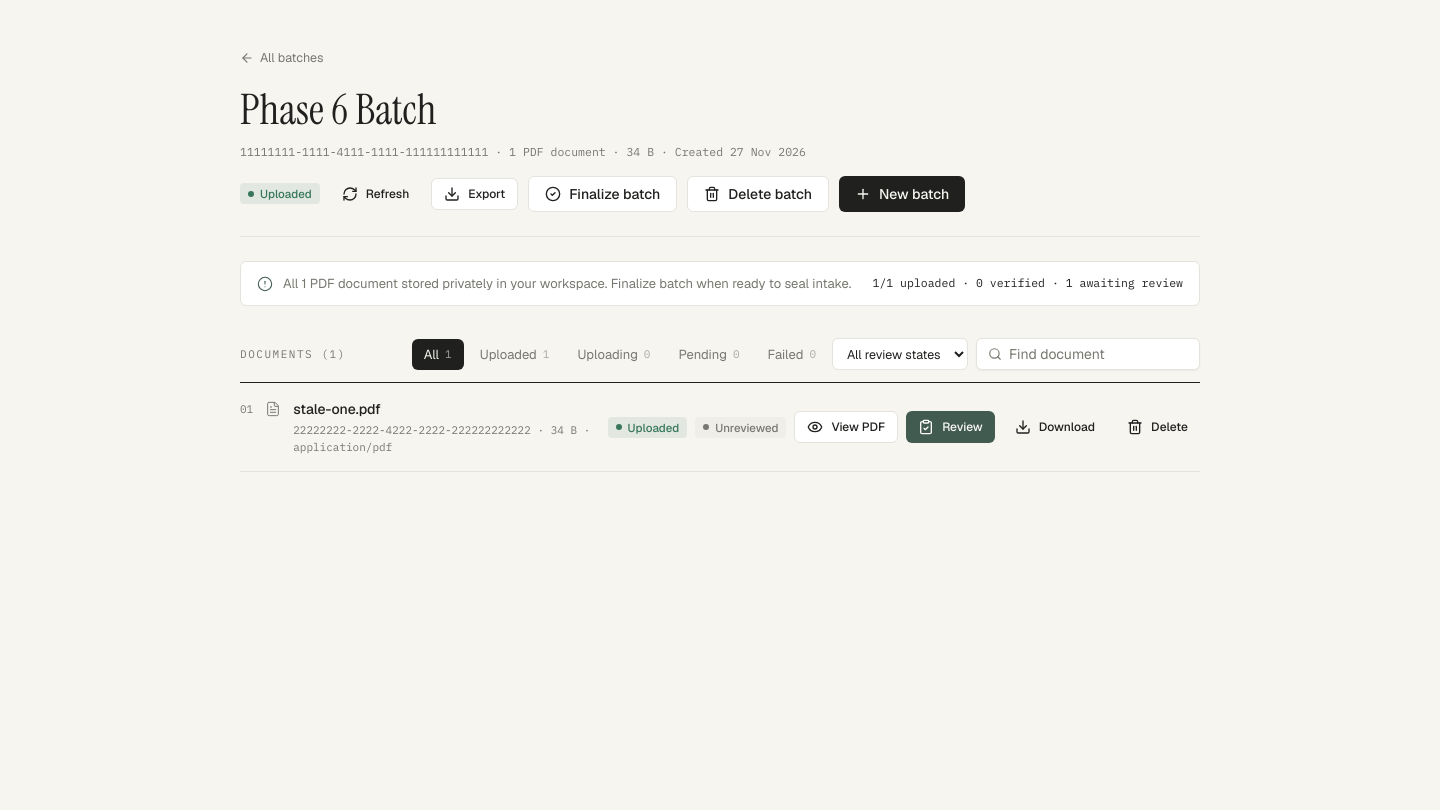
Test: Phase 6 — Document access UI (preview, unavailable recovery, search, single delete, focus) › Edge Cases: blocks non-PDF/empty 200 preview payloads, restores focus on delete cancel, and prevents stale-fetch races
expect the text "stale-one.pdf" is shown: met, box [293,400,381,418]
# Rapid double Refresh: UI stays mounted (non-destructive refresh) and second call supersedes slow first call
Click the button with aria-label "Reload batch from server" at (376, 194), box [330,178,421,210]
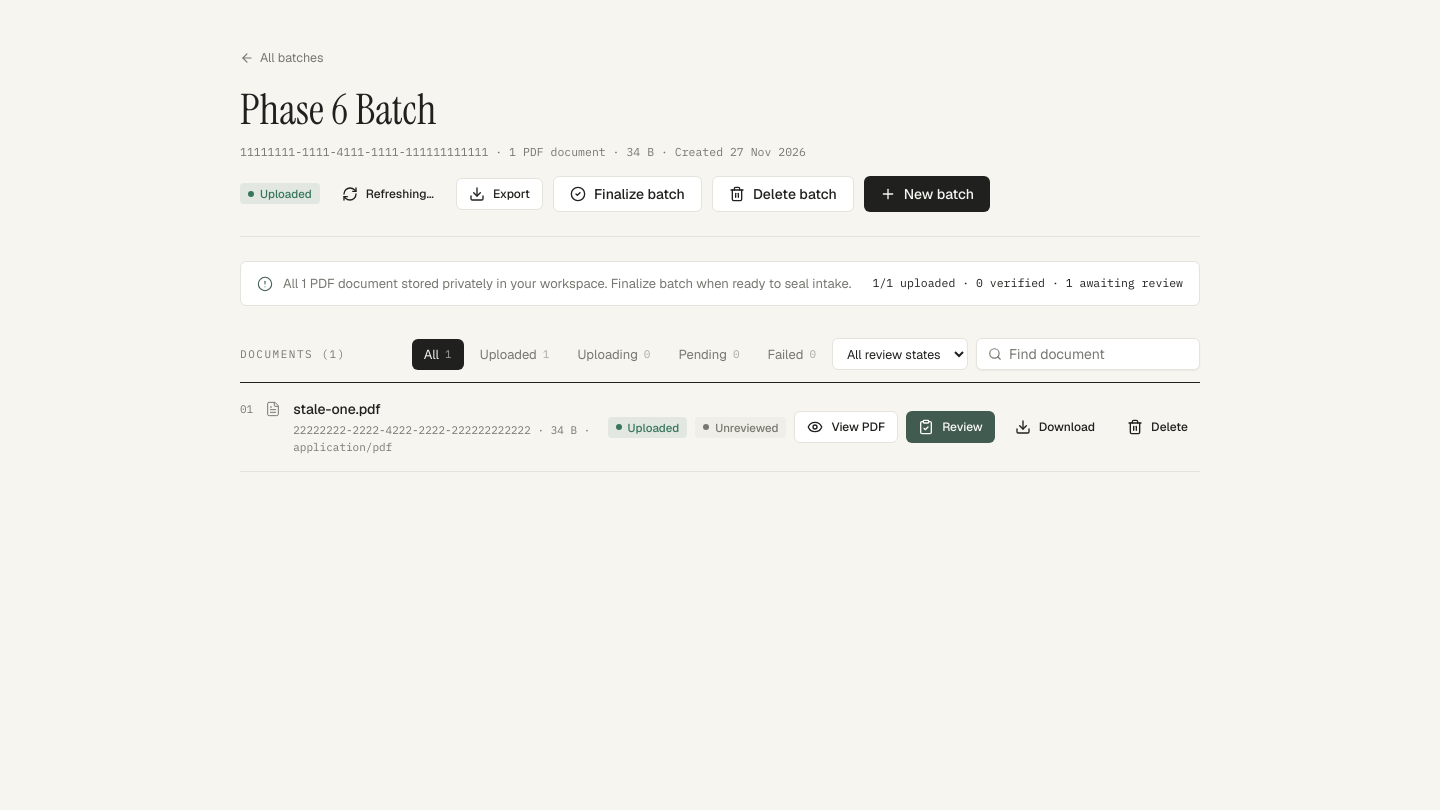
expect the text "stale-one.pdf" is shown: met, box [293,400,381,418]
expect the button with aria-label "Reload batch from server" has attribute aria-busy="true": met
Click the button with aria-label "Reload batch from server" at (388, 194), box [330,178,446,210]
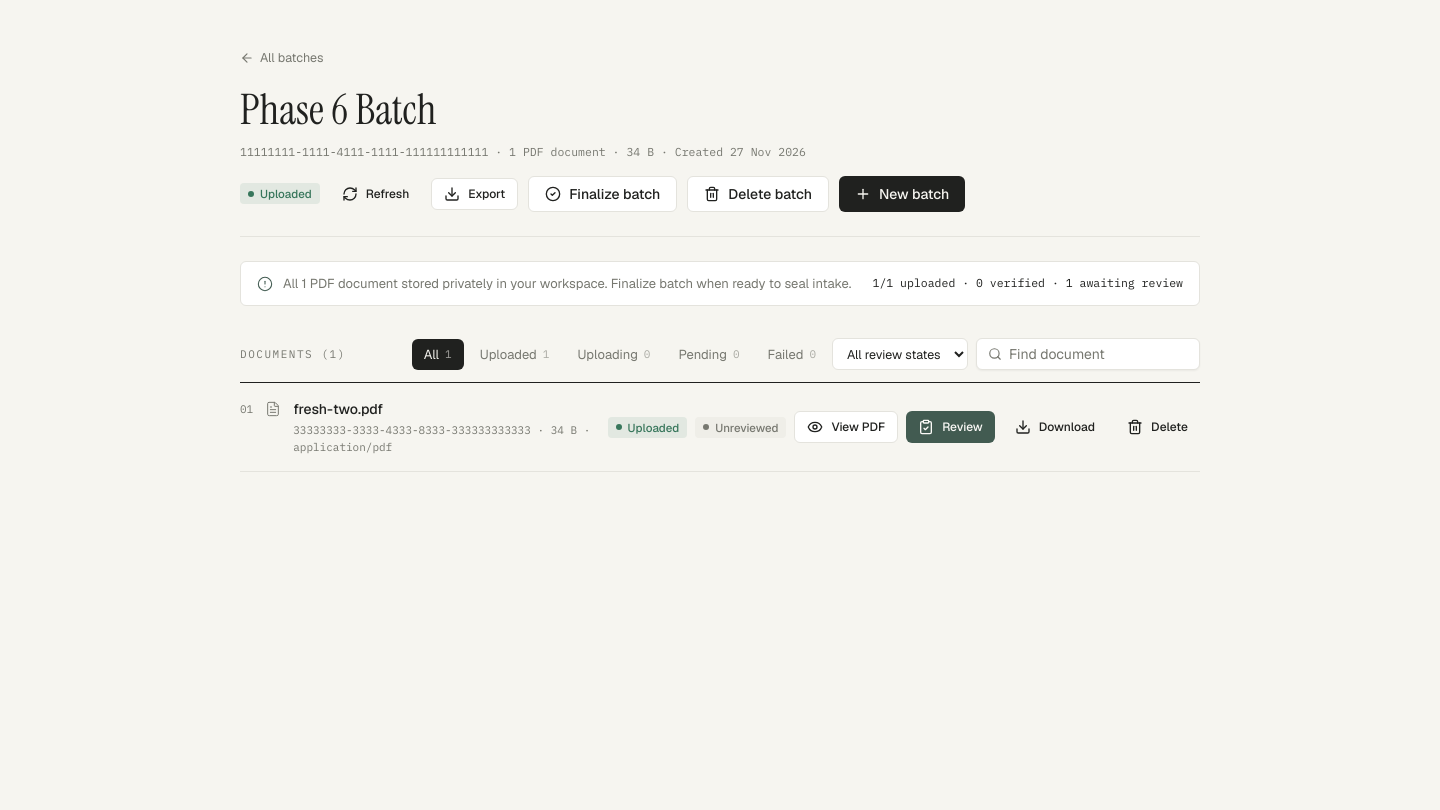
expect the text "fresh-two.pdf" is shown: met, box [293,400,383,418]
expect the text "stale-one.pdf" is gone: met
# Opening preview when server responds 200 text/html shows recoverable error (never iframe)
Click the button with aria-label "View fresh-two.pdf" at (846, 427), box [794,411,898,443]
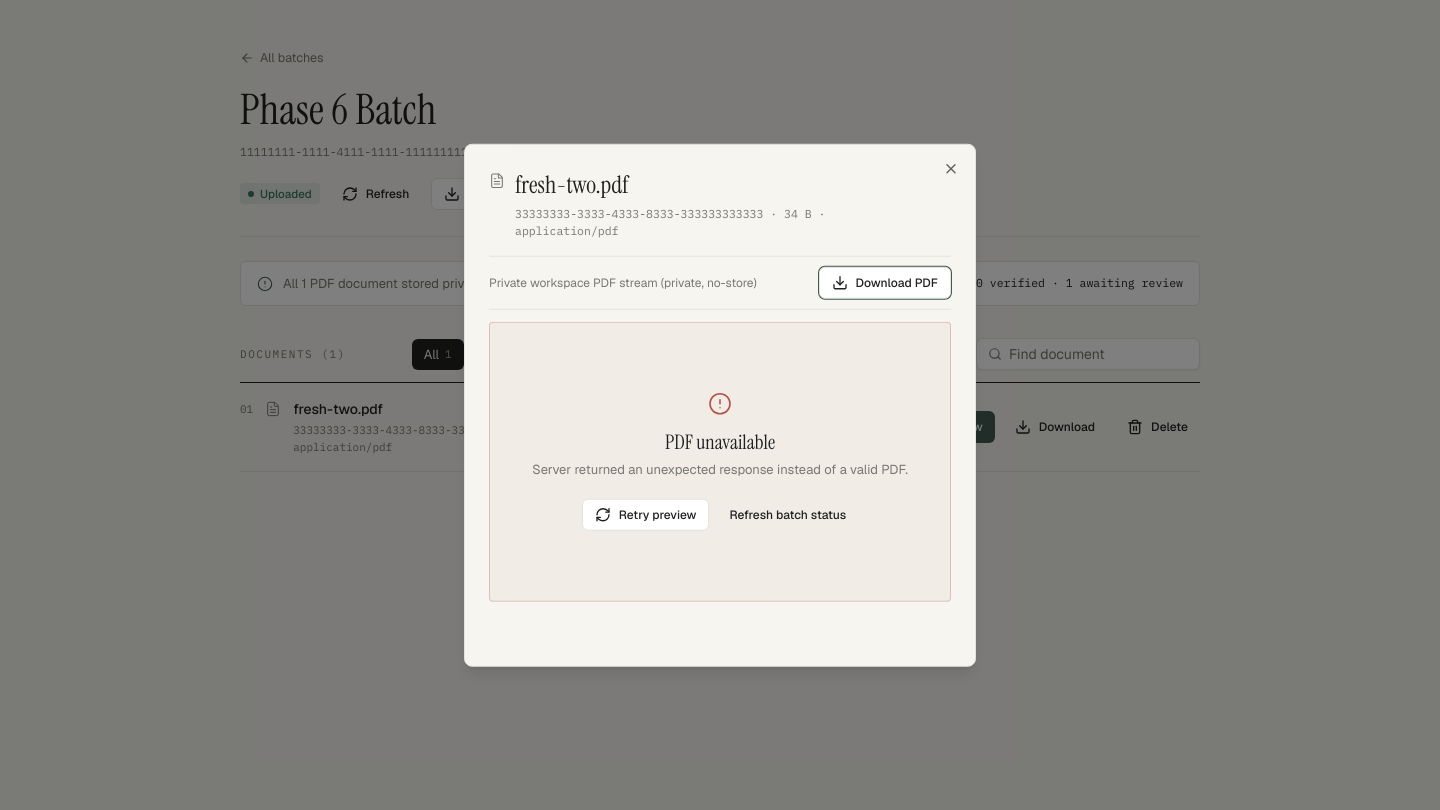
expect the text "PDF unavailable" is shown: met, box [665,428,775,454]
expect the text "Server returned an unexpected response instead of a valid PDF." is shown: met, box [532,460,908,479]
Click the button named "Close" at (951, 169), box [943,161,959,177]
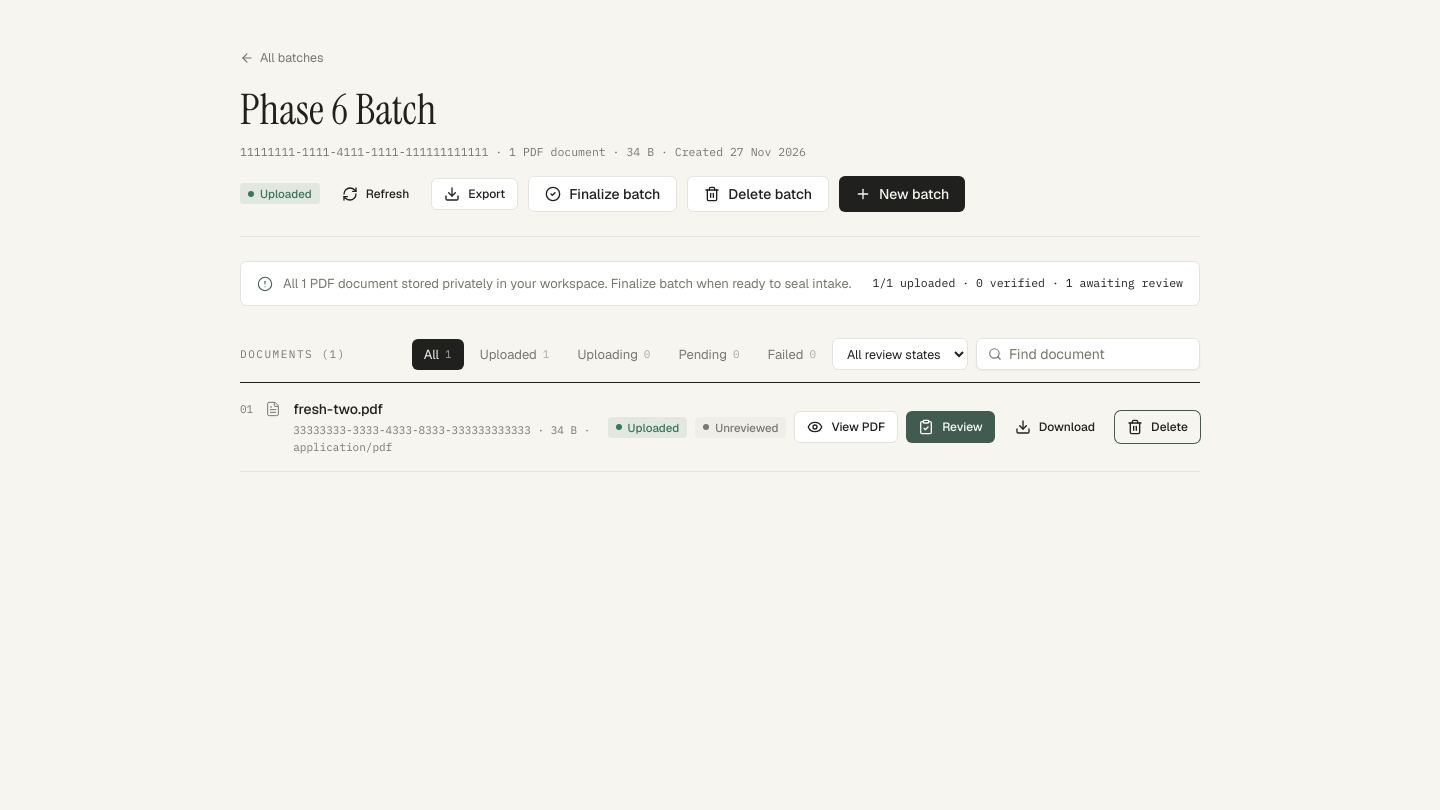
Click the button with aria-label "Delete fresh-two.pdf" at (1158, 427), box [1115,411,1200,443]
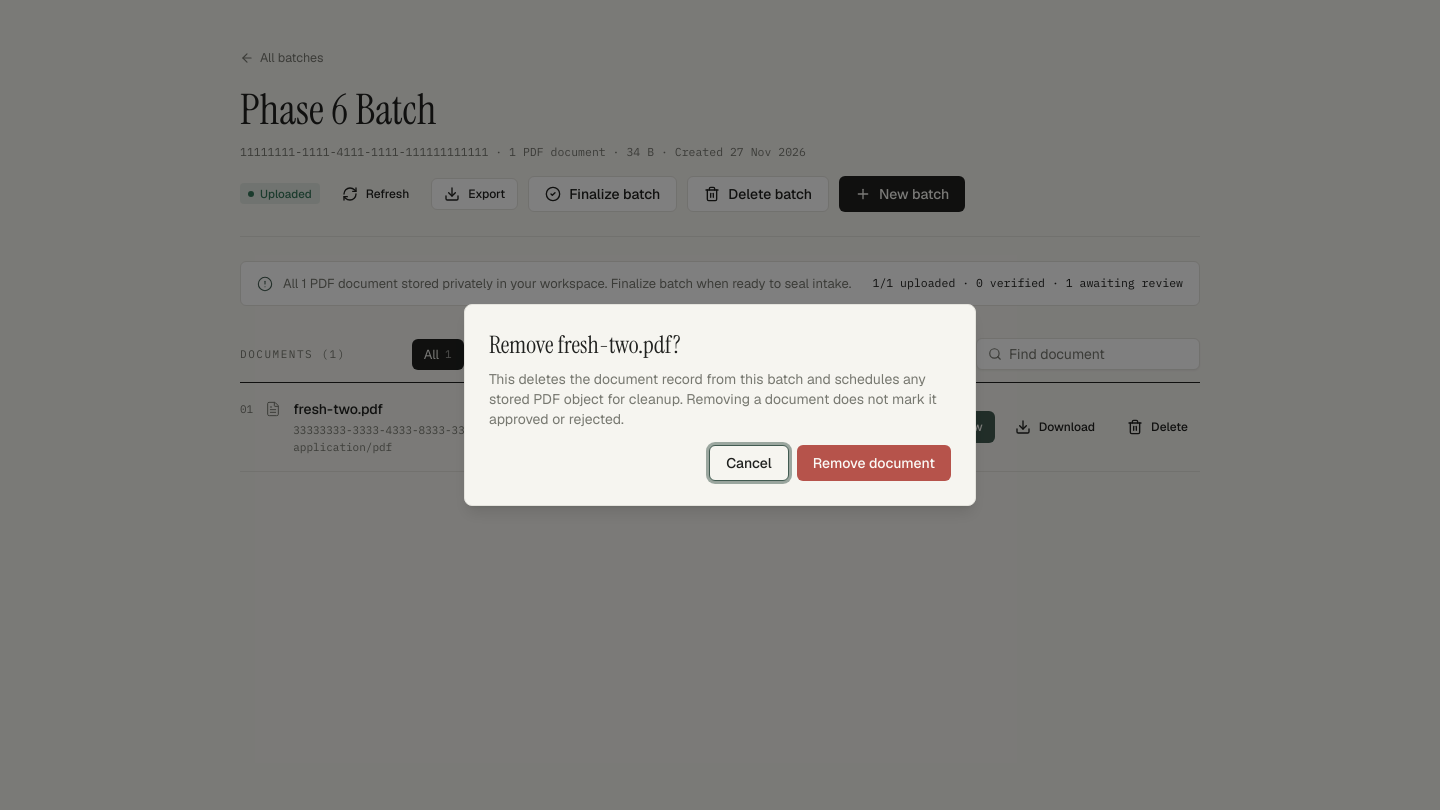
expect the heading "Remove fresh-two.pdf?" is shown: met, box [489,329,681,360]
Click the button "Cancel" at (749, 463), box [709,445,789,481]
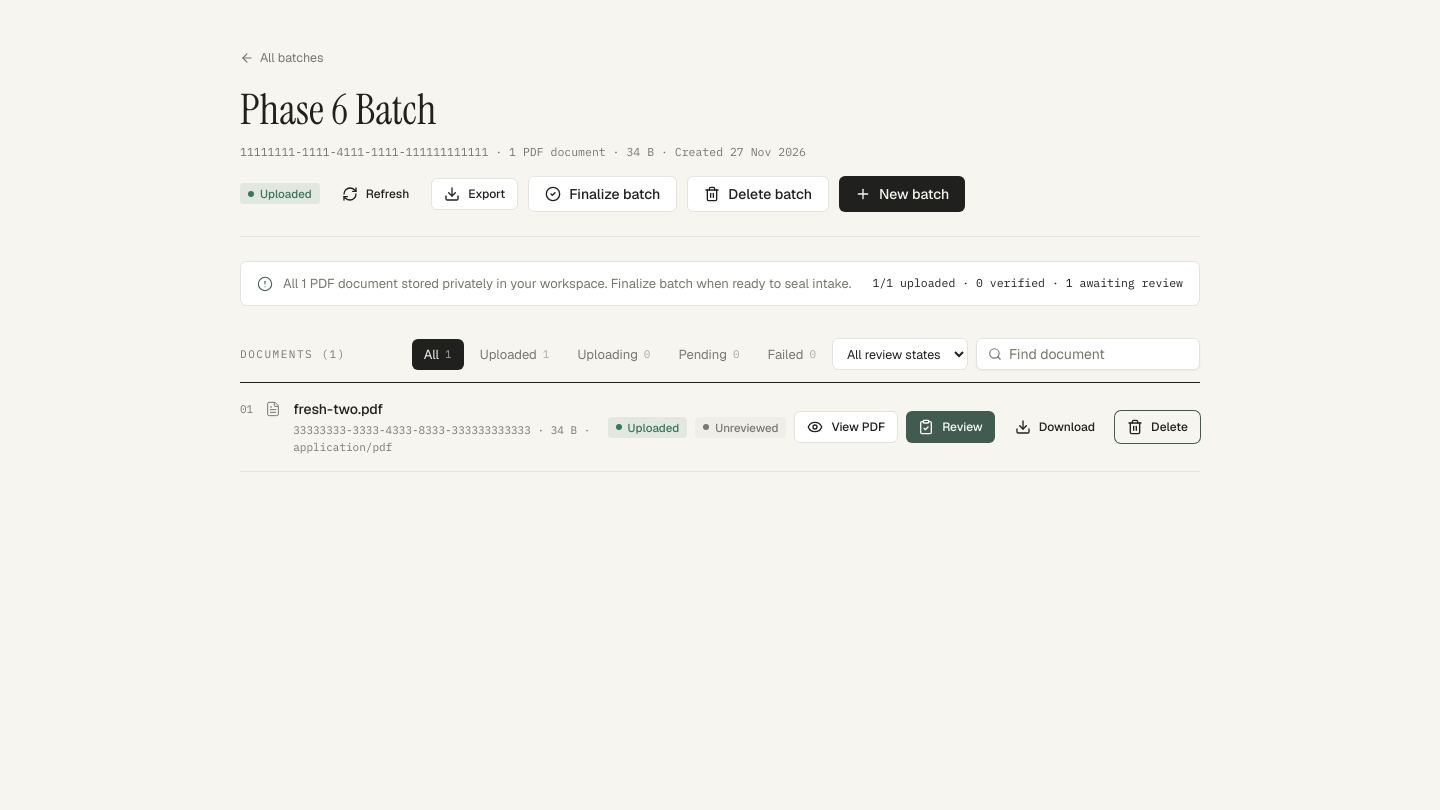
expect the heading "Remove fresh-two.pdf?" is gone: met
